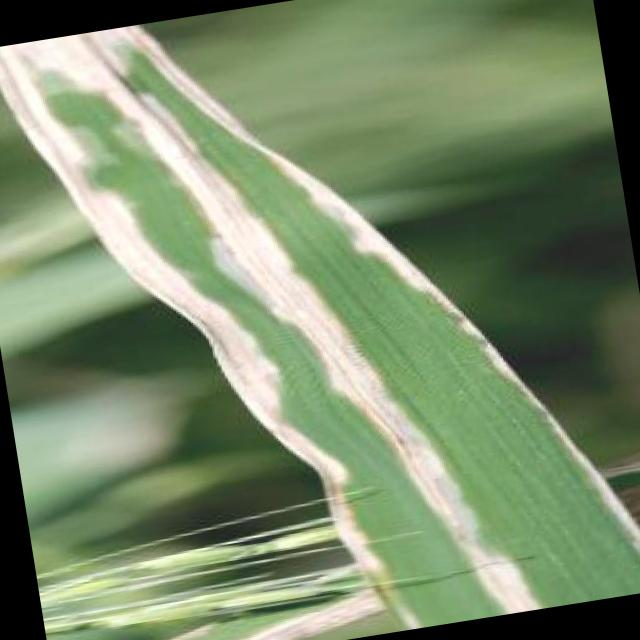Rice_Bacterial_Blight: (46, 0, 385, 513)
